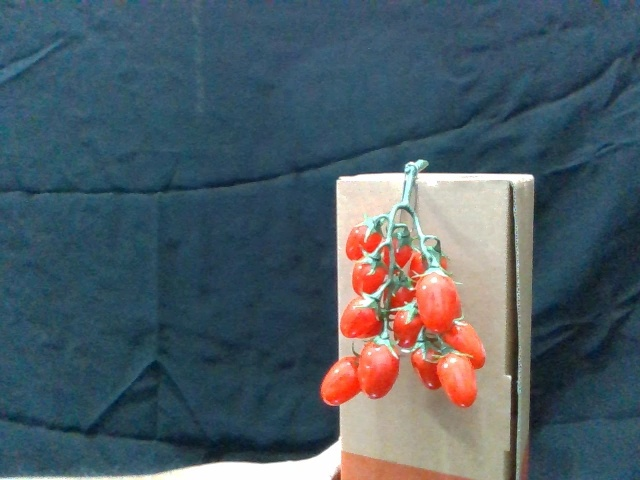tomato: (416, 264, 461, 335), (358, 336, 401, 398), (439, 347, 478, 411), (319, 351, 362, 406), (341, 294, 388, 338), (447, 318, 487, 368), (387, 300, 423, 348), (411, 342, 444, 392), (344, 216, 382, 257), (353, 252, 388, 295)
